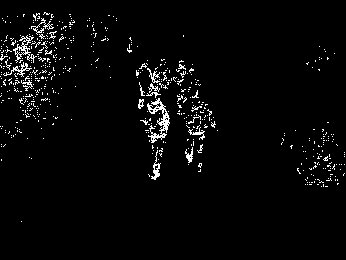person: (178, 87, 218, 177), (136, 94, 171, 182), (134, 57, 154, 109)
